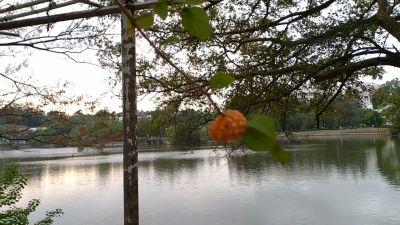eggs: (210, 108, 245, 142)
